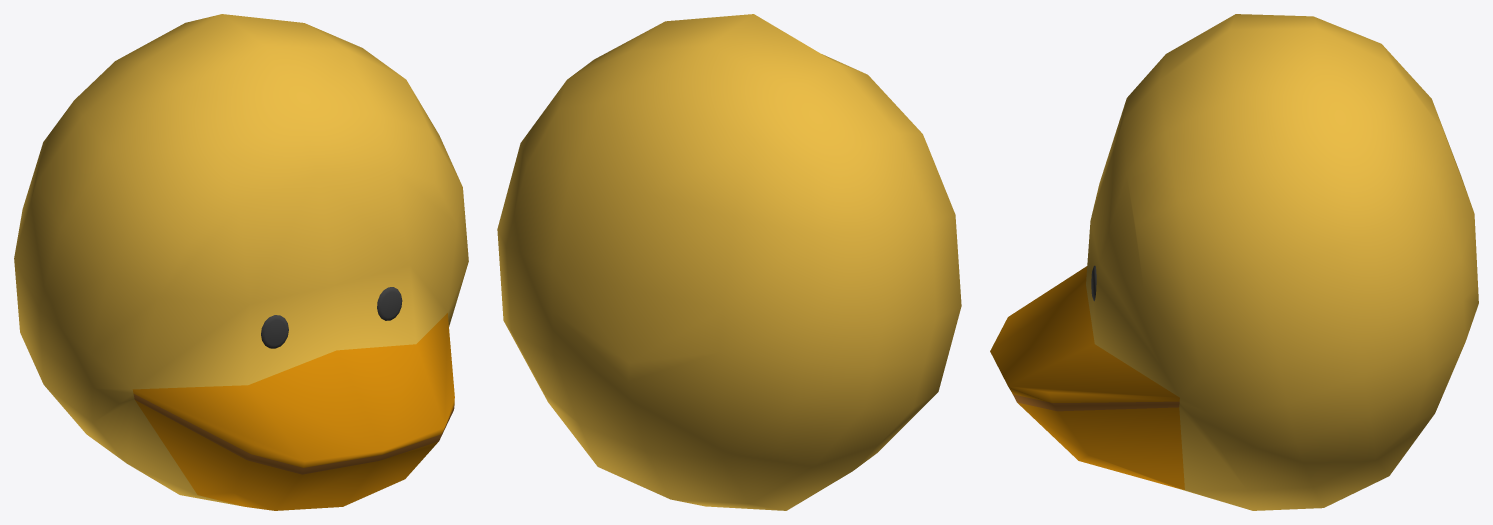
File: DuckModel.glb
The picture shows the model from 3 angles, left to right: view 1: azimuth 30°, elevation 25°; view 2: azimuth 150°, elevation 25°; view 3: azimuth 270°, elevation 25°; orthographic projection. The views are drawn at different scales.
Parts seen in each view (by area): view 1: pato; view 2: pato; view 3: pato.
Part boxes in pixels (bbox=[...]): pato: bbox=[14, 14, 468, 510]; pato: bbox=[497, 14, 961, 510]; pato: bbox=[990, 14, 1478, 510].
Bounding box in the file's own units: 0.9433 × 1.01 × 0.9727.
